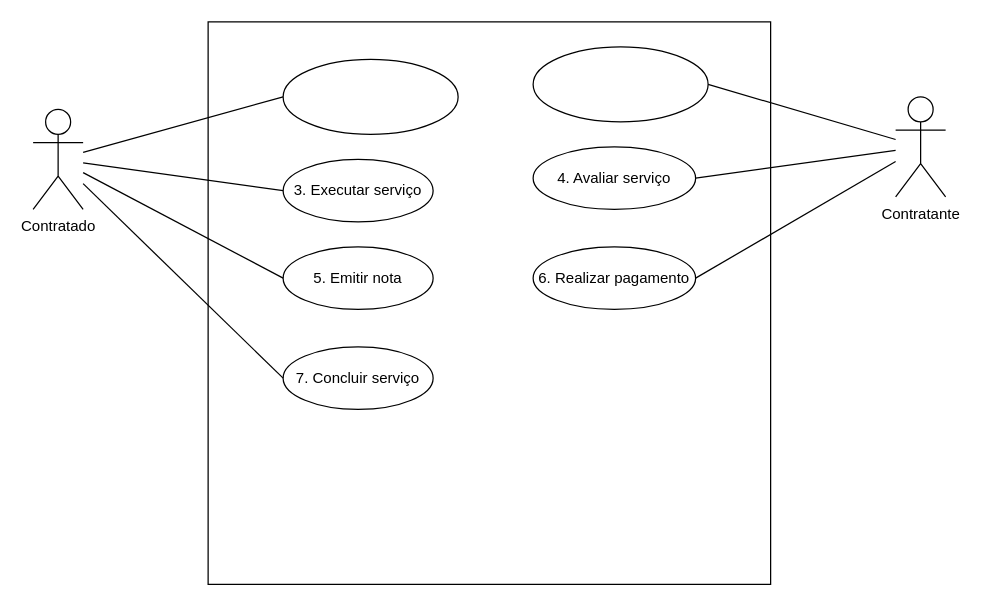
This 981x606 diagram has some shape labels left out. Each missing label, with the box of its shape:
1. Publicar catálogo de serviços: (282, 58, 458, 134)
2. Contratar Marido de Aluguel: (532, 46, 708, 122)
